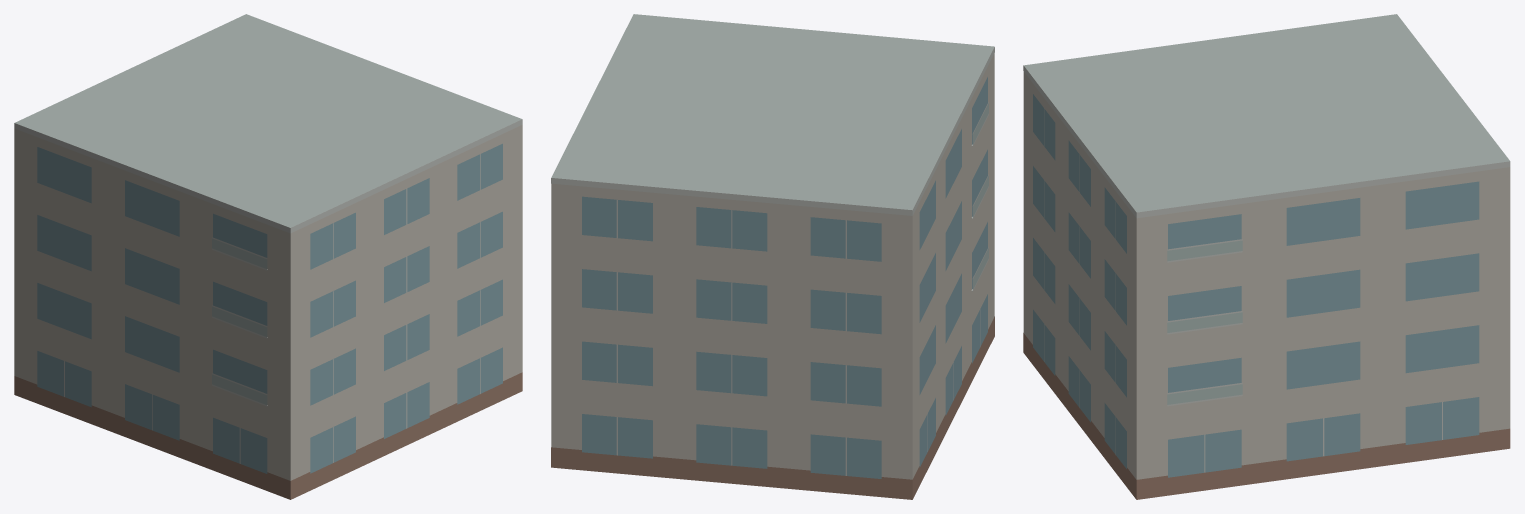
Rendered from residential-cbeeb97e-9c34-409f-8f49-c55299b5b0f0.glb.
3 views of the same model, side by side, from view 1: azimuth 30°, elevation 25°; view 2: azimuth 150°, elevation 25°; view 3: azimuth 270°, elevation 25° (orthographic). The views are drawn at different scales.
Visible parts, largest first — view 1: residential-cbeeb97e-9c34-409f-8f49-c55299b5b0f0.tmp; view 2: residential-cbeeb97e-9c34-409f-8f49-c55299b5b0f0.tmp; view 3: residential-cbeeb97e-9c34-409f-8f49-c55299b5b0f0.tmp.
Boxes of the visible parts, left/top/right/bottom form: residential-cbeeb97e-9c34-409f-8f49-c55299b5b0f0.tmp: left=14, top=14, right=522, bottom=499; residential-cbeeb97e-9c34-409f-8f49-c55299b5b0f0.tmp: left=551, top=14, right=994, bottom=499; residential-cbeeb97e-9c34-409f-8f49-c55299b5b0f0.tmp: left=1023, top=14, right=1510, bottom=499.
Bounding box in the file's own units: 18.09 × 12.2 × 18.75.
